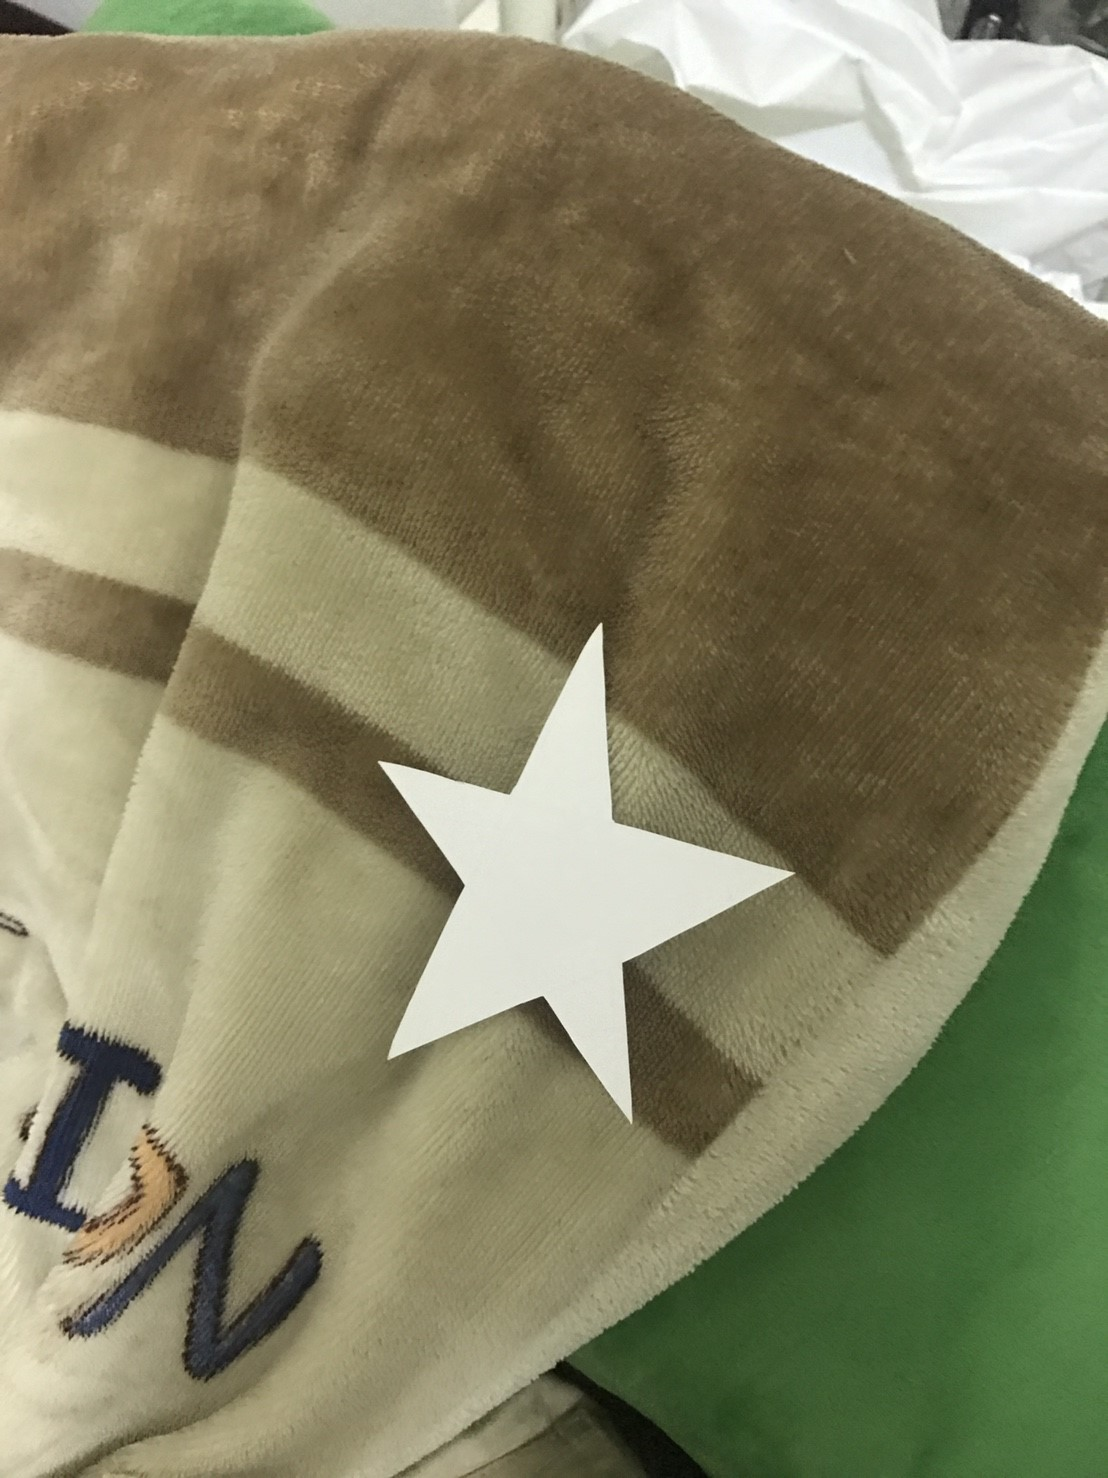star: (363, 590, 801, 1159)
